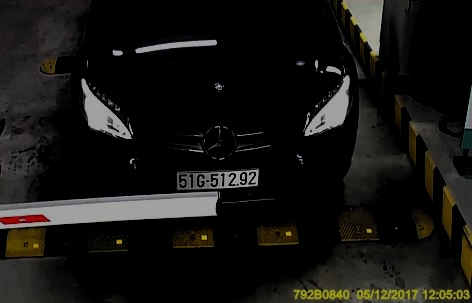plate: (171, 164, 260, 188)
